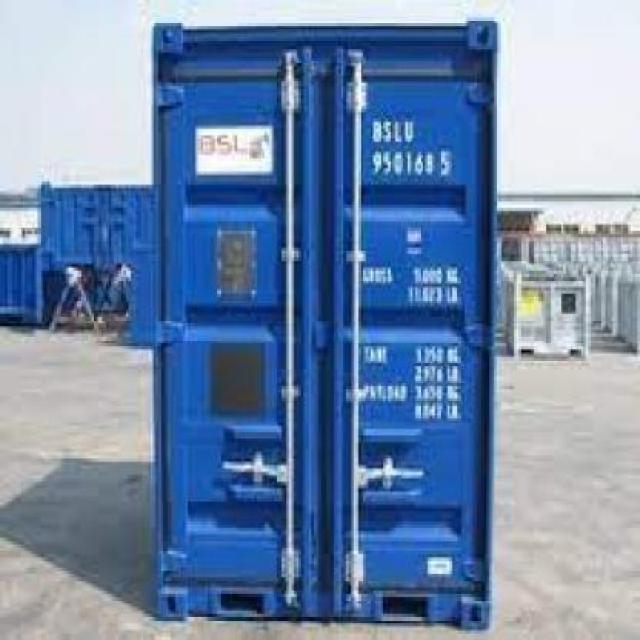container_number: (372, 120, 450, 170)
